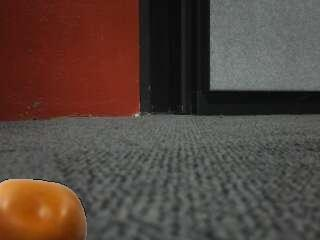Potato: (0, 178, 89, 240)
